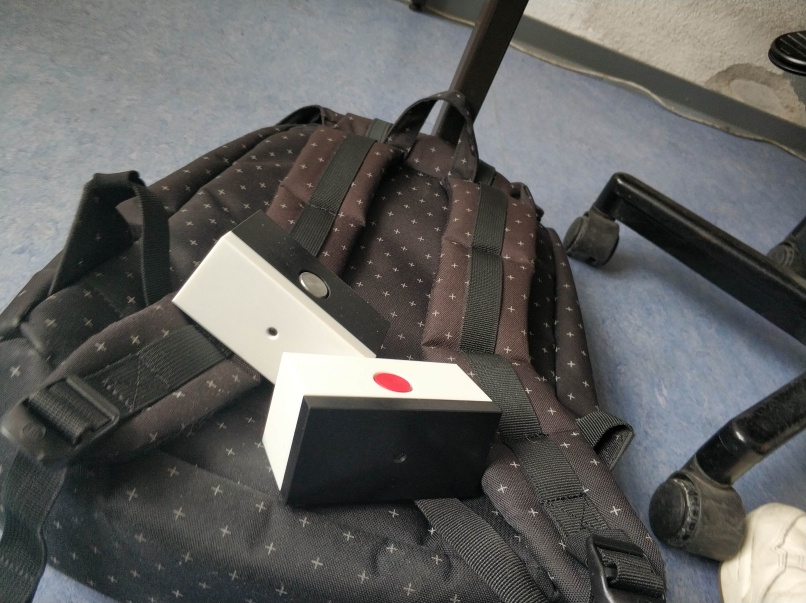black+white+red: (258, 348, 504, 510)
white+black+silver: (168, 206, 393, 378)
